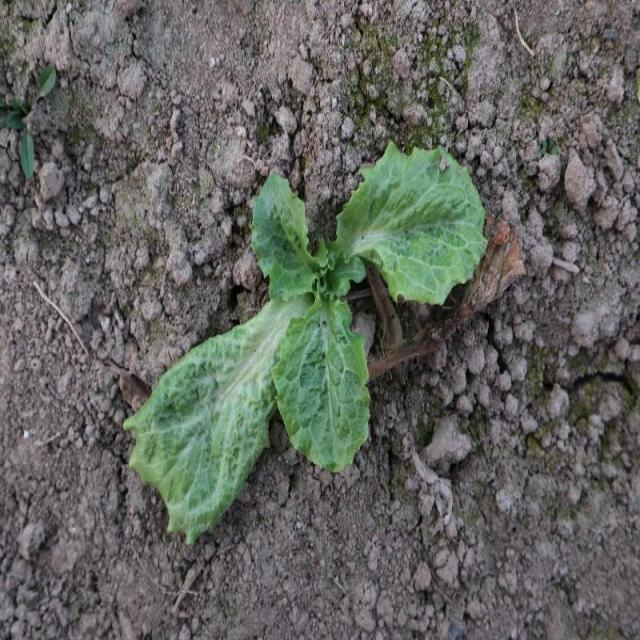crop: (250, 140, 488, 473)
